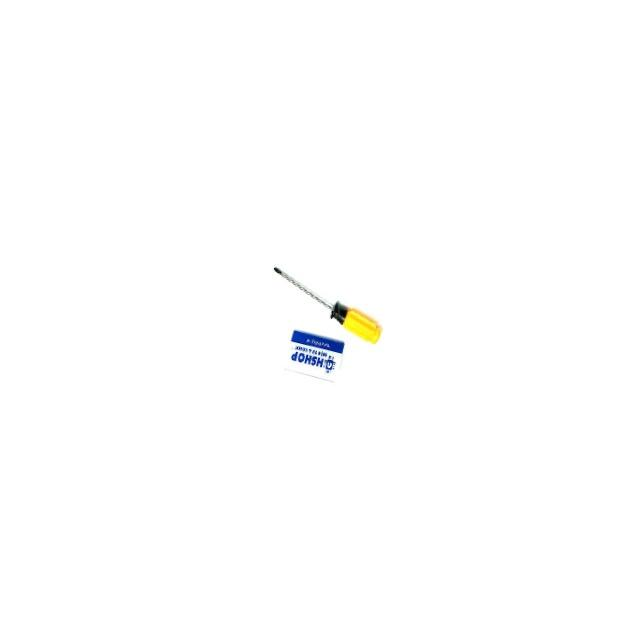screwdriver: (260, 264, 390, 344)
